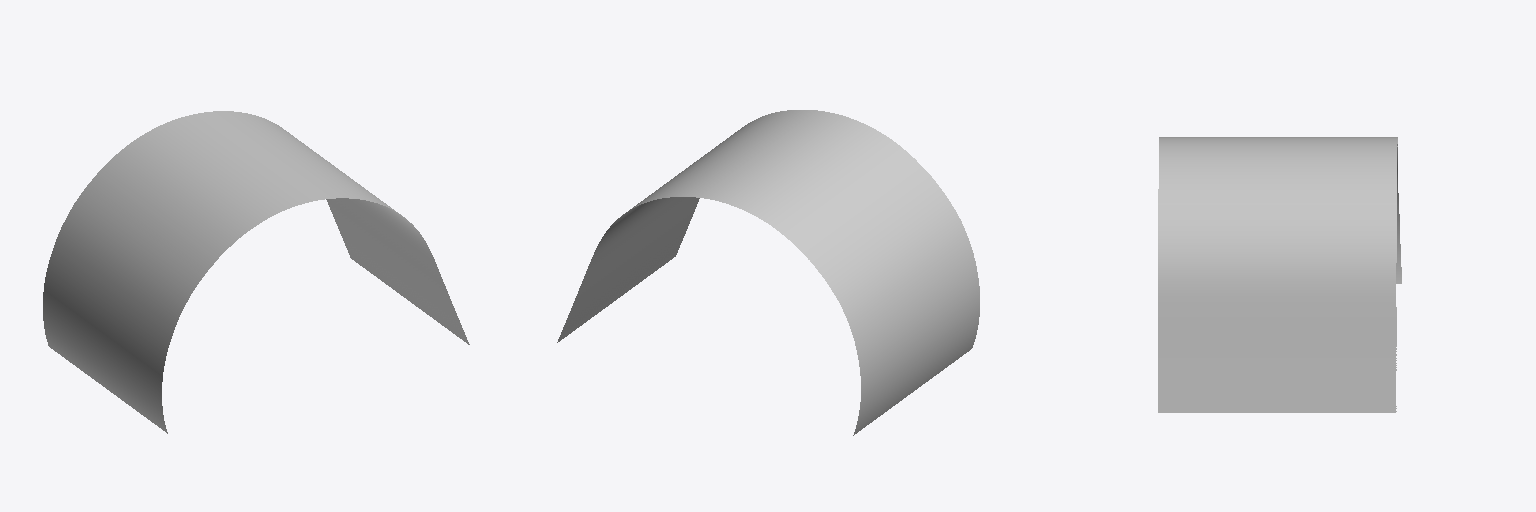
The model's file is Data_20100324_01_019.obj.
3 renders of one model, left to right at view 1: azimuth 30°, elevation 25°; view 2: azimuth 150°, elevation 25°; view 3: azimuth 270°, elevation 25°, orthographic.
Parts seen in each view (by area): view 1: mesh; view 2: mesh; view 3: mesh.
Part boxes in pixels (bbox=[...]): mesh: bbox=[43, 111, 469, 433]; mesh: bbox=[557, 110, 979, 435]; mesh: bbox=[1158, 137, 1401, 412].
Size of the model in its own units: 10074 by 6270 by 6957.